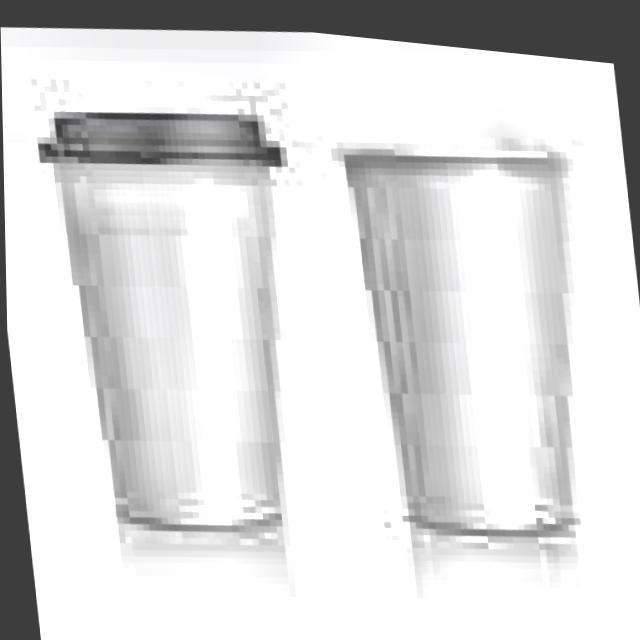Cup: (34, 119, 338, 559), (324, 112, 611, 550)
